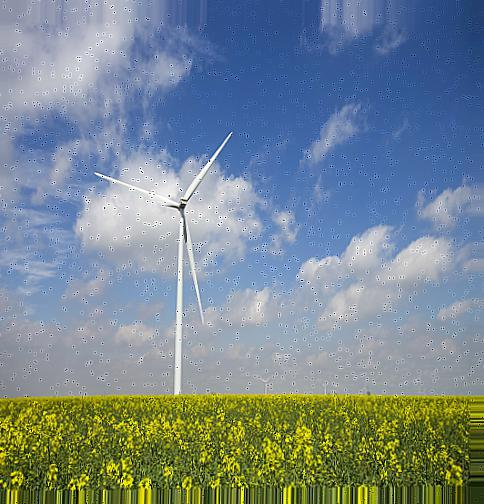wind turbine: (94, 130, 235, 398)
